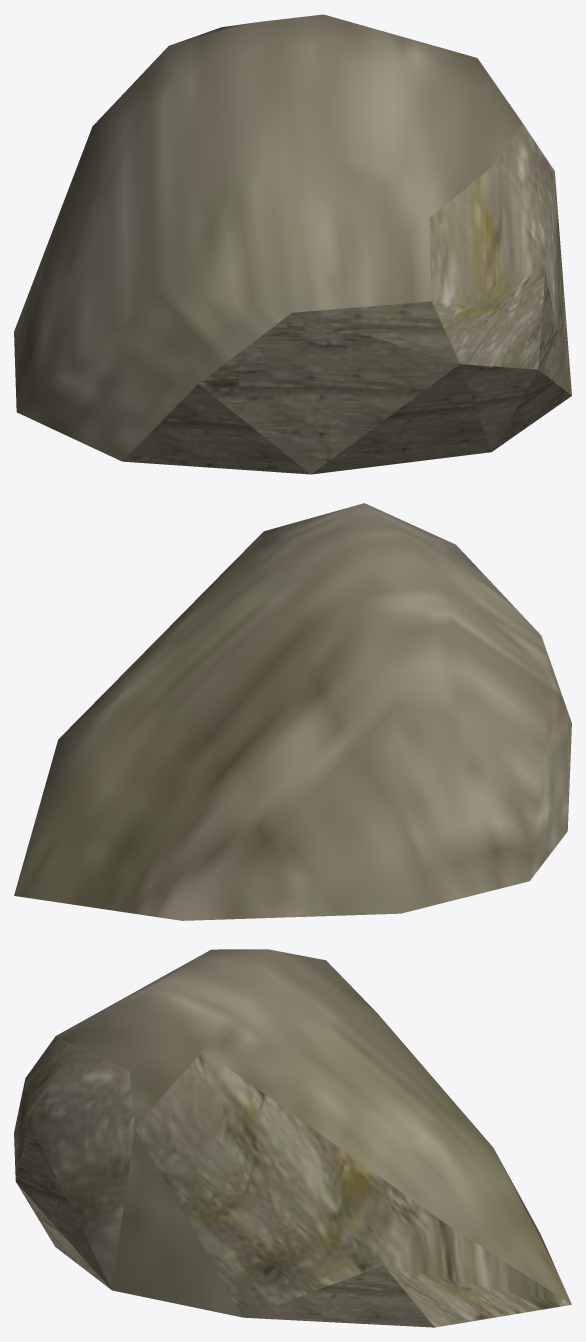
File: stone-1.glb
3 views of the same model, one above another, from view 1: azimuth 30°, elevation 25°; view 2: azimuth 150°, elevation 25°; view 3: azimuth 270°, elevation 25° (orthographic). The views are drawn at different scales.
Parts seen in each view (by area): view 1: stone-1; view 2: stone-1; view 3: stone-1.
Boxes of the visible parts, x1,y1,x2,y2 form: stone-1: (14,14,571,474); stone-1: (14,503,571,920); stone-1: (14,949,571,1327).
Bounding box in the file's own units: 2 × 1.25 × 2.4.
Materials: 1 (1 with a texture image).
